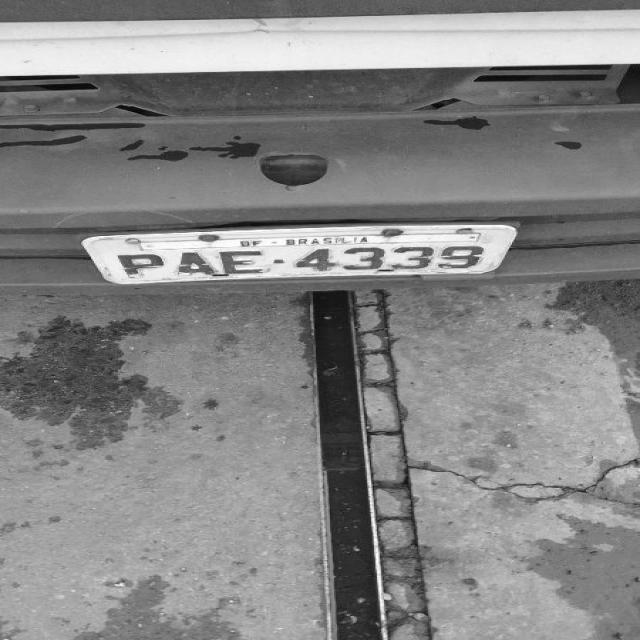placa_antiga: (82, 223, 516, 285)
